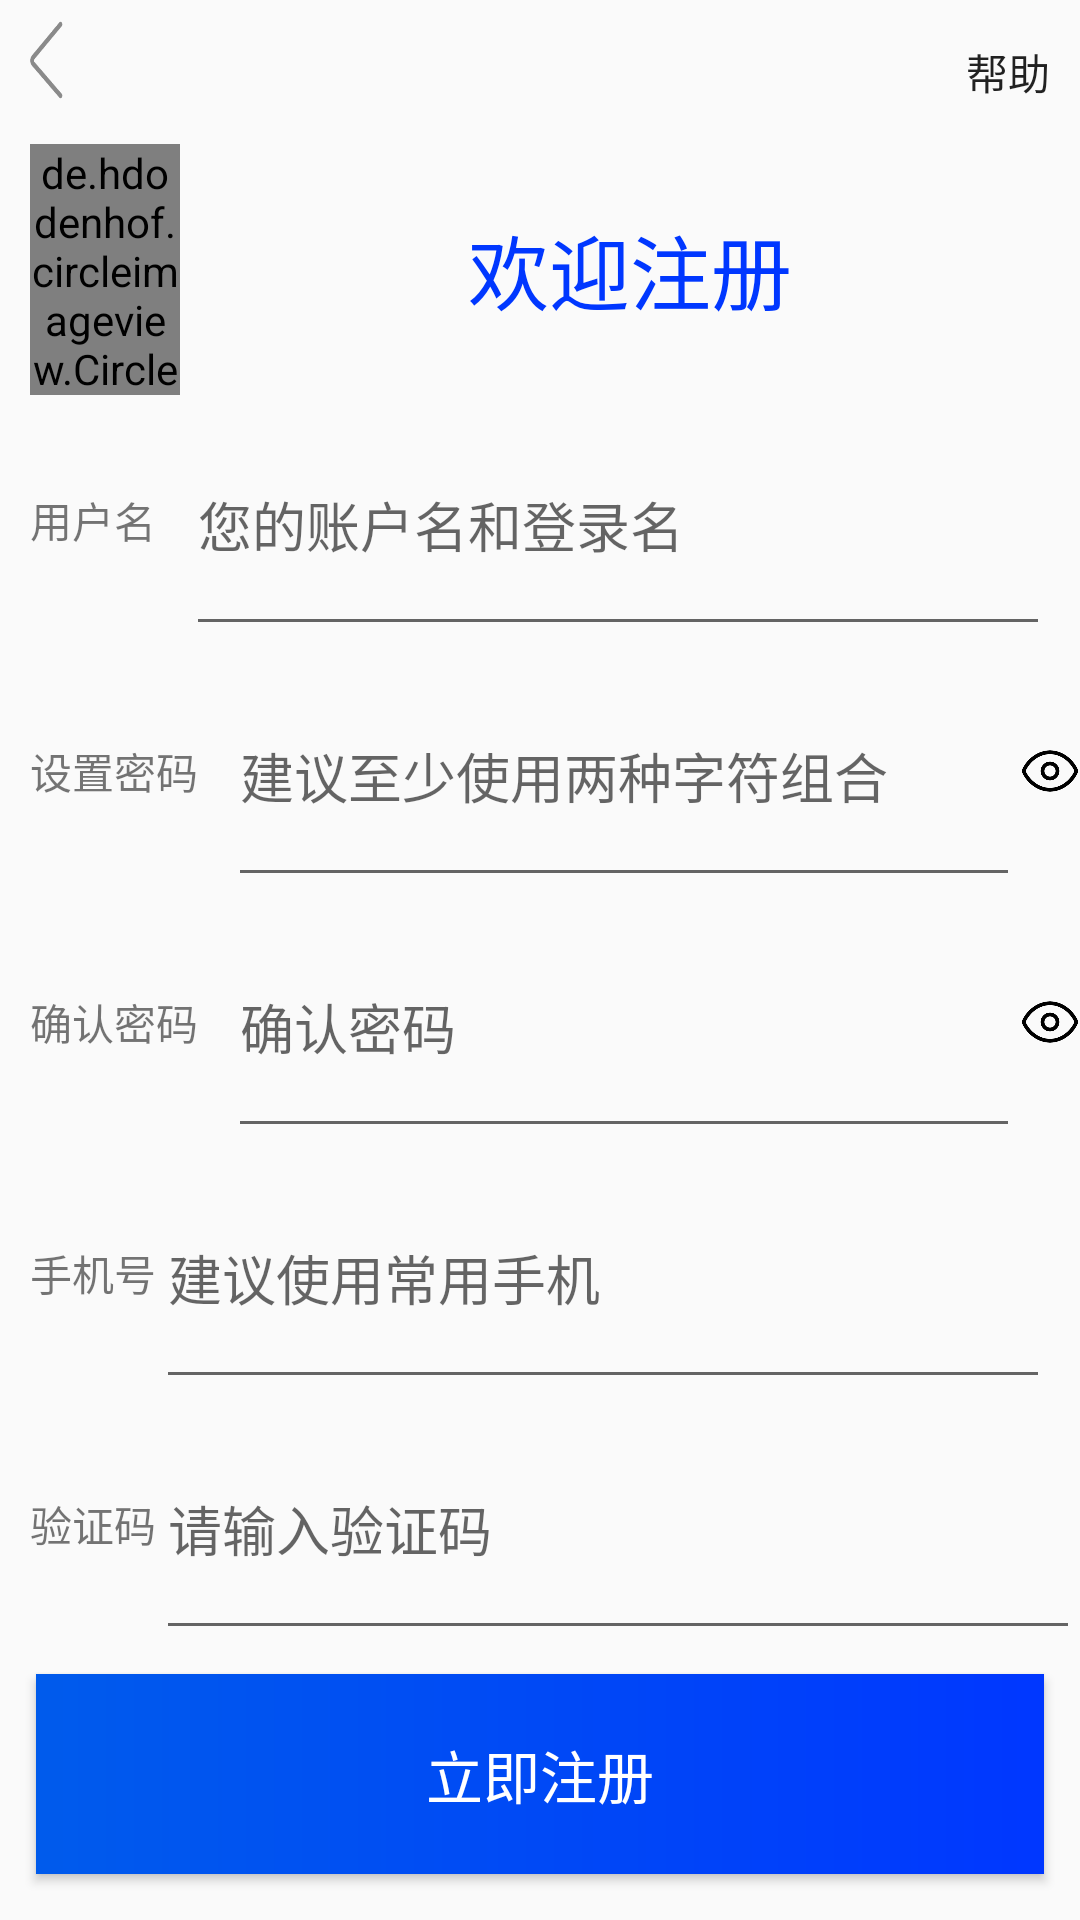

Icon click points for this 1080px x 1920px phone screenshot, format (x=x, y=y):
back: (x=46, y=60)
eye: (x=1050, y=771), (x=1050, y=1022)
